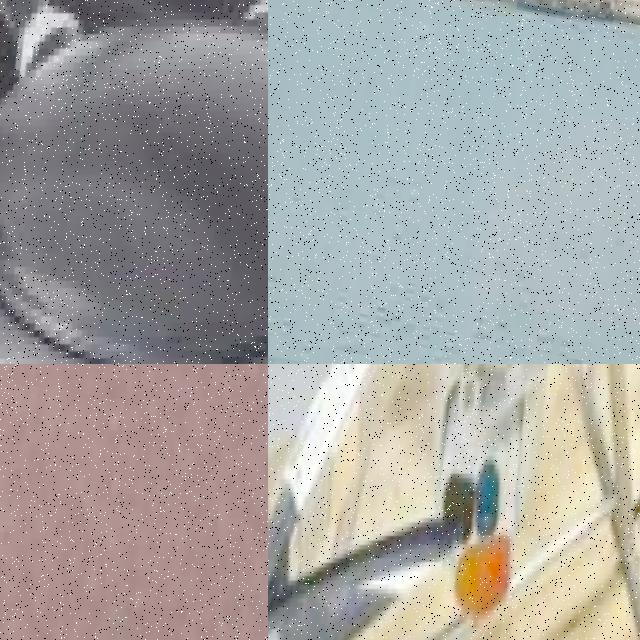drone: (268, 364, 640, 640), (0, 0, 268, 364), (0, 364, 268, 640)
